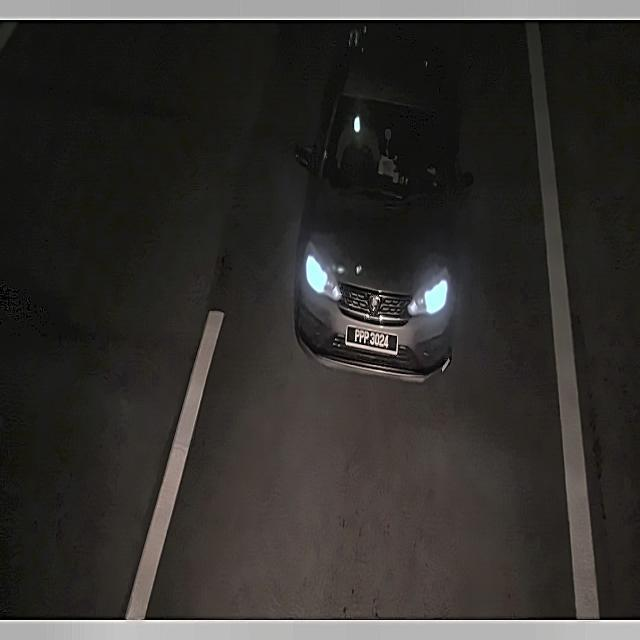car: (342, 322, 403, 364)
